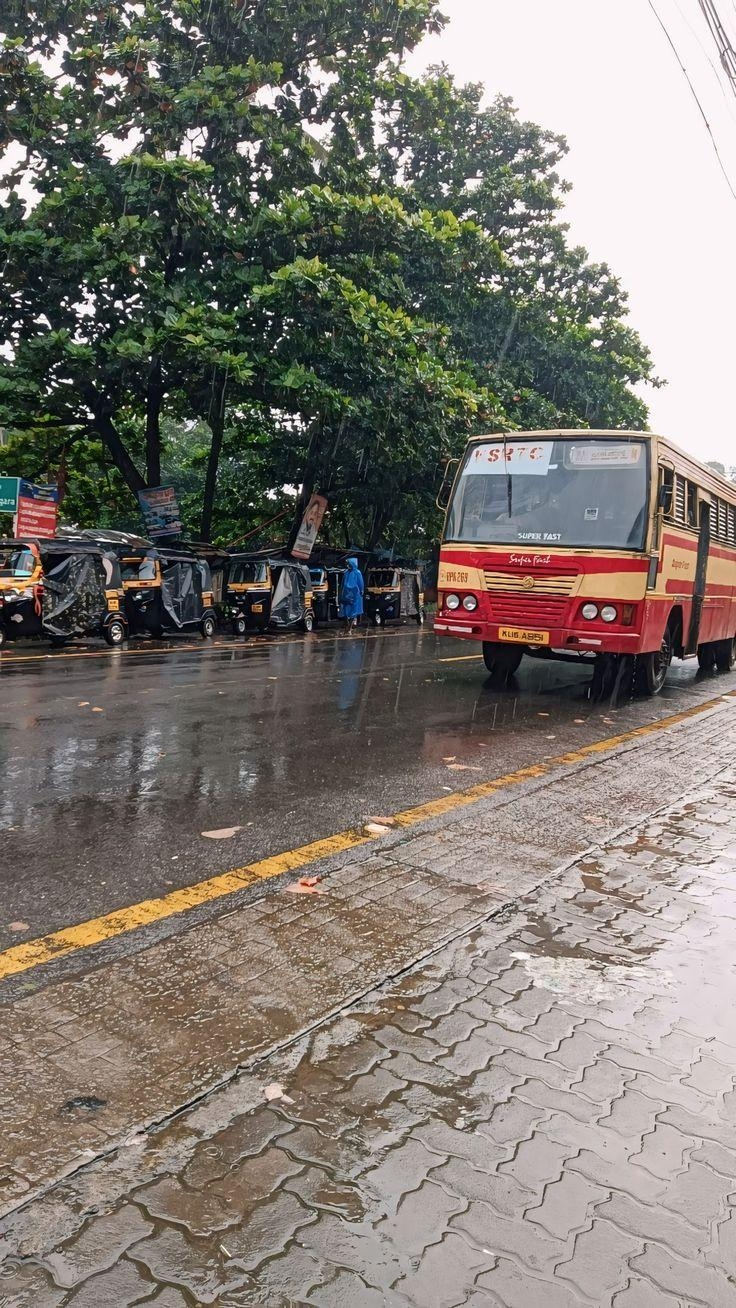bus: (432, 432, 732, 697)
